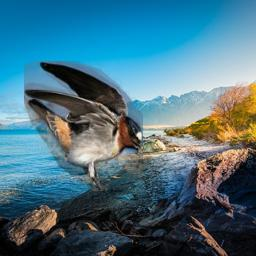Swallow: (24, 61, 143, 191)
